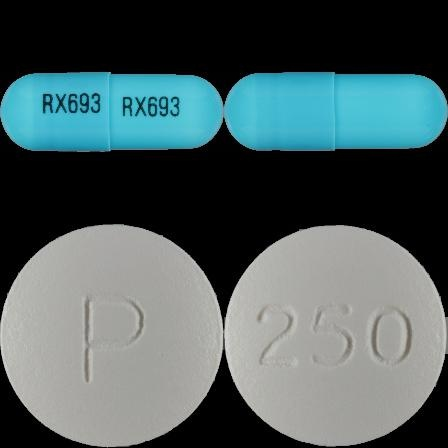63187-141: (0, 0, 224, 224)
